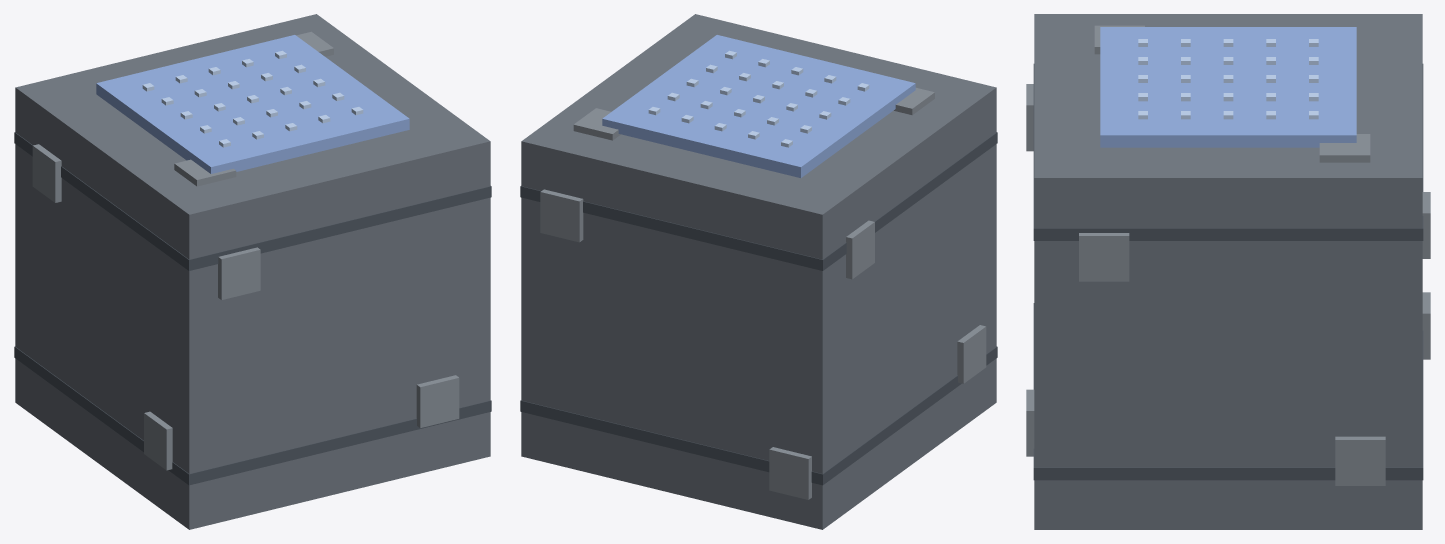
File: silicon_wafer_ore_block.glb
The picture shows the model from 3 angles, left to right: view 1: azimuth 30°, elevation 25°; view 2: azimuth 150°, elevation 25°; view 3: azimuth 270°, elevation 25°; orthographic projection. The views are drawn at different scales.
Visible parts, largest first — view 1: dark_stone_core, wafer_disc, dark_seam_1, dark_seam, stone_chip_1, stone_chip, stone_chip_6, stone_chip_7, stone_chip_8; view 2: dark_stone_core, wafer_disc, dark_seam, dark_seam_1, stone_chip_3, stone_chip_2, stone_chip_7, stone_chip_6, stone_chip_9, stone_chip_8; view 3: dark_stone_core, wafer_disc, dark_seam_1, dark_seam, stone_chip_5, stone_chip_4, stone_chip_9, stone_chip_1, stone_chip_2, stone_chip_3, stone_chip.
Part boxes in pixels (box(x1,y1,x2,y2)): dark_stone_core: box(15, 14, 490, 529); wafer_disc: box(96, 35, 409, 173); dark_seam_1: box(14, 132, 491, 270); dark_seam: box(14, 346, 491, 485); stone_chip_1: box(416, 375, 459, 427); stone_chip: box(218, 247, 260, 300); stone_chip_6: box(32, 144, 61, 202); stone_chip_7: box(144, 411, 172, 470); stone_chip_8: box(174, 159, 236, 186); dark_stone_core: box(521, 14, 996, 529); wafer_disc: box(602, 35, 915, 177); dark_seam: box(520, 346, 997, 485); dark_seam_1: box(520, 132, 997, 270); stone_chip_3: box(540, 189, 583, 242); stone_chip_2: box(769, 447, 811, 499); stone_chip_7: box(957, 325, 986, 383); stone_chip_6: box(846, 220, 874, 279); stone_chip_9: box(573, 108, 620, 140); stone_chip_8: box(894, 87, 934, 115); dark_stone_core: box(1034, 14, 1422, 529); wafer_disc: box(1100, 27, 1356, 147); dark_seam_1: box(1033, 64, 1423, 240); dark_seam: box(1033, 303, 1423, 480); stone_chip_5: box(1335, 436, 1385, 485); stone_chip_4: box(1079, 233, 1129, 281); stone_chip_9: box(1319, 134, 1370, 162); stone_chip_1: box(1026, 389, 1034, 456); stone_chip_2: box(1422, 292, 1430, 359); stone_chip_3: box(1422, 192, 1430, 258); stone_chip: box(1026, 84, 1033, 151).
Bounding box in the file's own units: 1.04 × 1.07 × 1.04.
